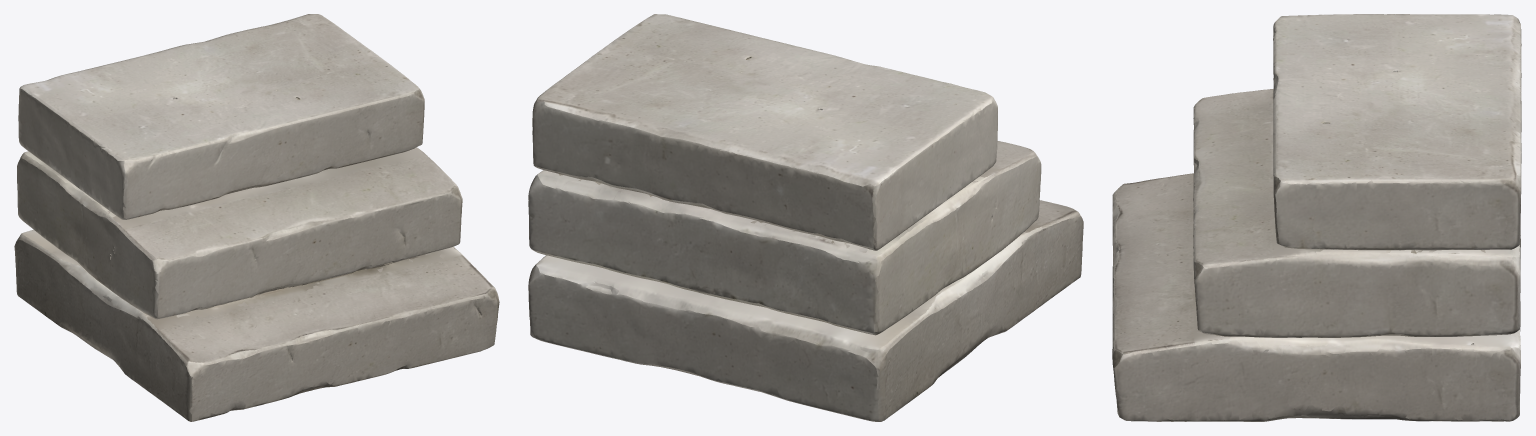
Rendered from stone-steps_textured.glb.
3 views of the same model, side by side, from view 1: azimuth 30°, elevation 25°; view 2: azimuth 150°, elevation 25°; view 3: azimuth 270°, elevation 25° (orthographic). The views are drawn at different scales.
Parts seen in each view (by area): view 1: geometry_0; view 2: geometry_0; view 3: geometry_0.
Part boxes in pixels (x1=…): geometry_0: x1=14, y1=14, x2=499, y2=421; geometry_0: x1=528, y1=14, x2=1083, y2=421; geometry_0: x1=1112, y1=14, x2=1521, y2=421.
Size of the model in its own units: 0.9 by 0.586 by 0.8994.
Materials: 1 (1 with a texture image).
